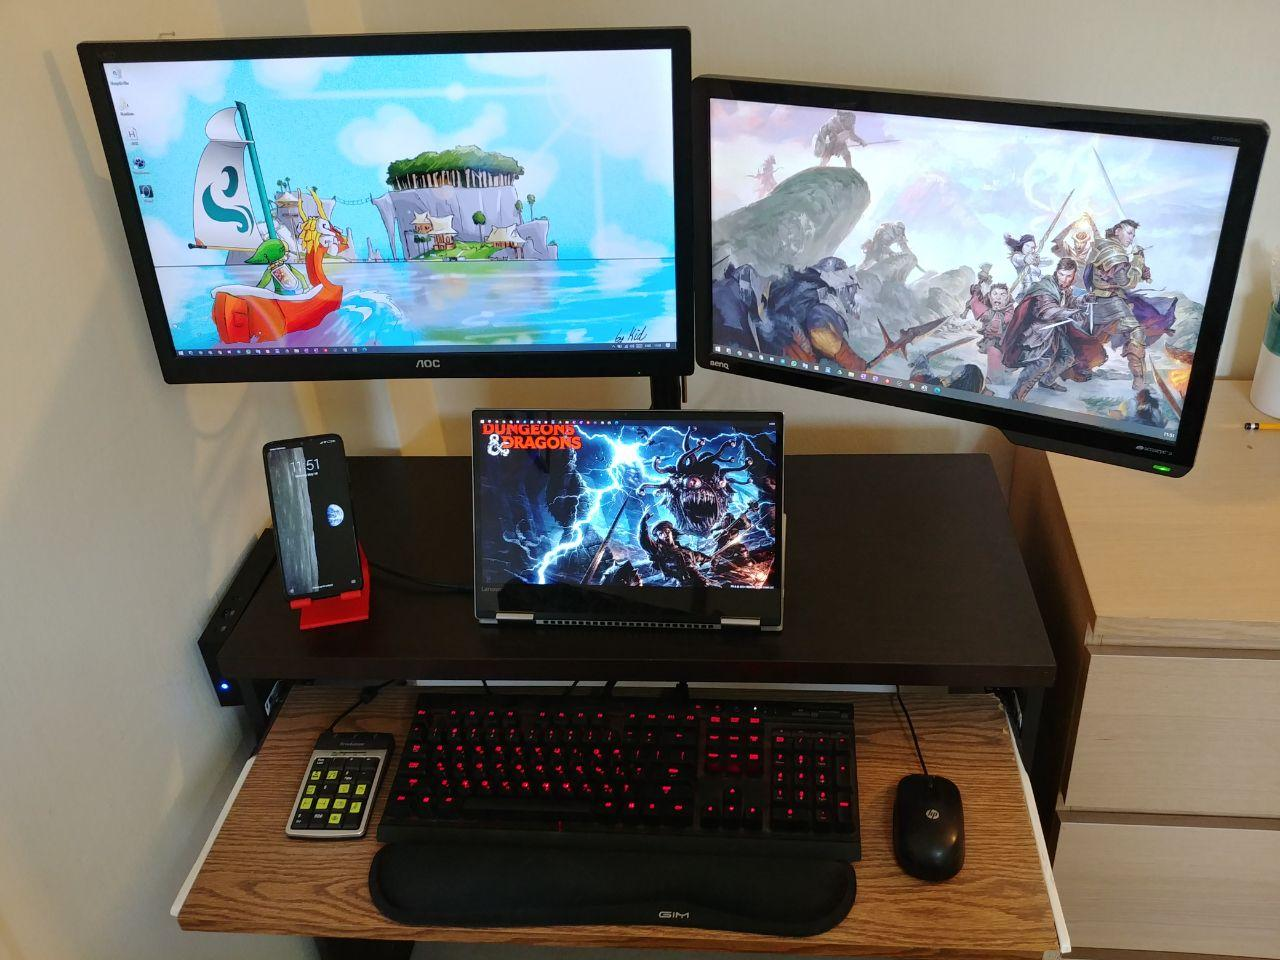Cellphone: (262, 434, 365, 602)
Desk (Generic): (175, 453, 1077, 960)
External Numpad: (281, 731, 396, 844)
Keyboard (Gaming): (375, 691, 859, 938)
Laptop (Windows): (469, 407, 786, 636)
Monitor (Landscape): (694, 75, 1280, 477), (74, 25, 696, 385)
Mouse (Generic): (894, 773, 965, 883)
Phone Holder: (289, 542, 371, 632)
